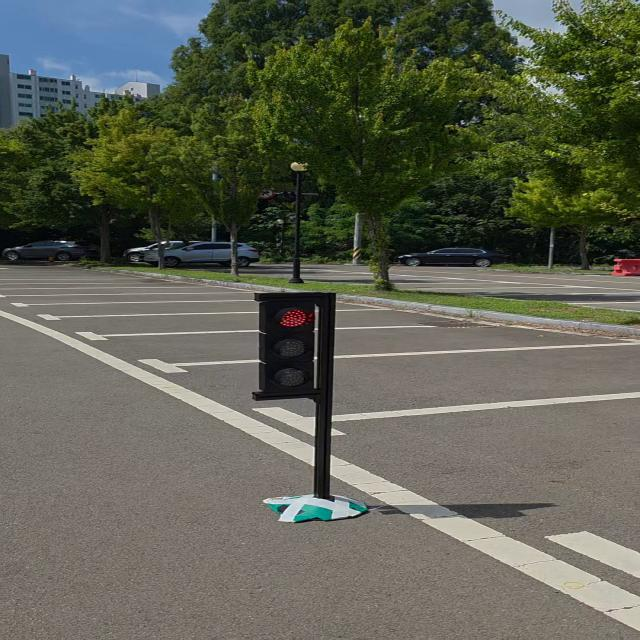red: (251, 292, 331, 408)
